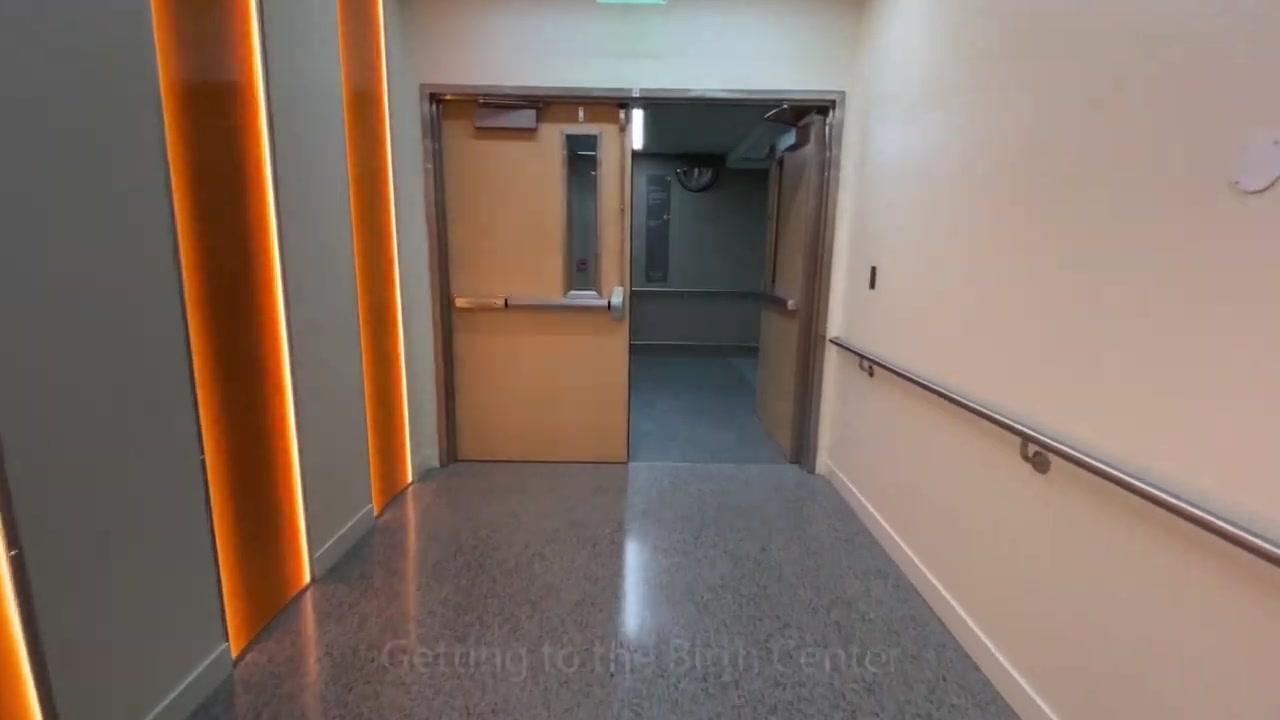hallway_assist_bar: (827, 336, 1280, 569), (632, 288, 760, 294)
push_latch: (453, 280, 627, 321), (760, 290, 796, 310)
